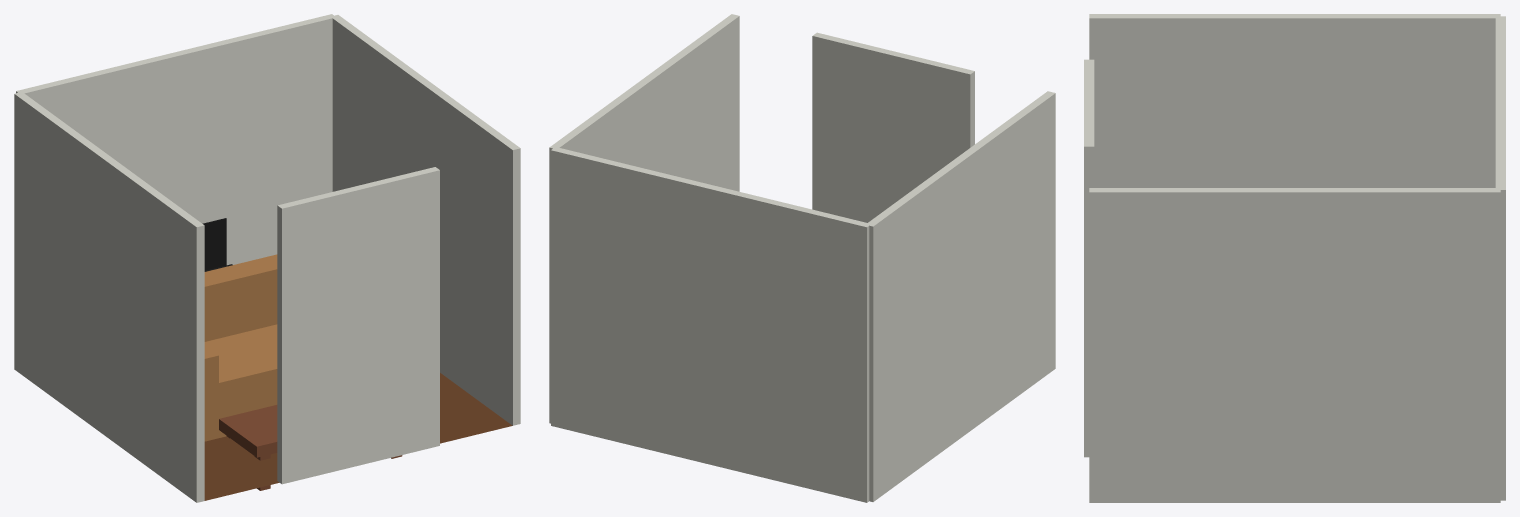
Rendered from boq_professional_60a74f77-19d2-4c44-885d-7241171bf036.obj.
3 renders of one model, left to right at view 1: azimuth 30°, elevation 25°; view 2: azimuth 150°, elevation 25°; view 3: azimuth 270°, elevation 25°, orthographic. The views are drawn at different scales.
Visible parts, largest first — view 1: LeftWall_living_room, FrontWall_living_room, BackWall_living_room, RightWall_living_room, Floor_living_room, SofaBody_living_room, SofaBackrest_living_room, CoffeeTableTop_living_room, TVScreen_living_room, SofaArmrest1_living_room; view 2: BackWall_living_room, LeftWall_living_room, FrontWall_living_room, RightWall_living_room; view 3: RightWall_living_room, LeftWall_living_room, BackWall_living_room, FrontWall_living_room.
Part boxes in pixels (x1,y1,x2,y2): LeftWall_living_room: [14, 93, 204, 502]; FrontWall_living_room: [277, 167, 439, 484]; BackWall_living_room: [16, 14, 335, 265]; RightWall_living_room: [332, 15, 520, 425]; Floor_living_room: [204, 373, 512, 500]; SofaBody_living_room: [204, 324, 277, 441]; SofaBackrest_living_room: [204, 254, 277, 341]; CoffeeTableTop_living_room: [219, 405, 277, 457]; TVScreen_living_room: [202, 218, 226, 270]; SofaArmrest1_living_room: [204, 345, 218, 413]; BackWall_living_room: [551, 147, 869, 502]; LeftWall_living_room: [866, 91, 1055, 501]; FrontWall_living_room: [812, 32, 974, 222]; RightWall_living_room: [549, 14, 739, 423]; RightWall_living_room: [1089, 188, 1500, 502]; LeftWall_living_room: [1089, 14, 1500, 187]; BackWall_living_room: [1495, 16, 1505, 500]; FrontWall_living_room: [1084, 59, 1094, 457].
Size of the model in its own units: 12.3 by 11.1 by 12.3.
